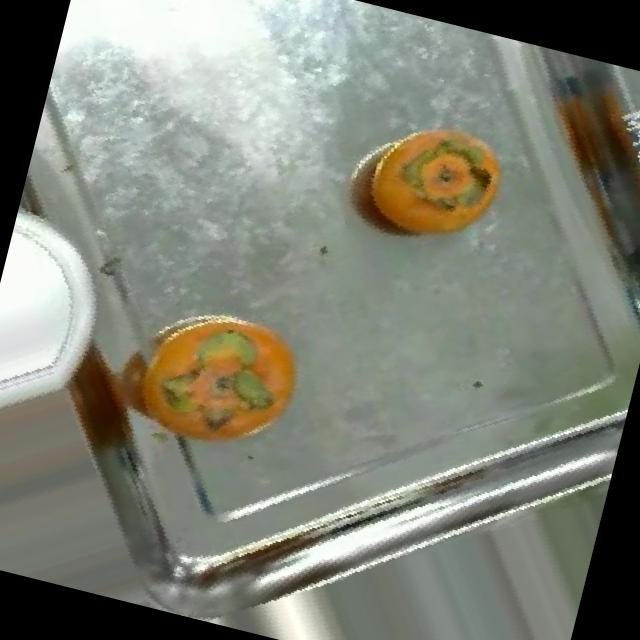Fruit: (78, 266, 340, 492), (314, 88, 532, 280)
